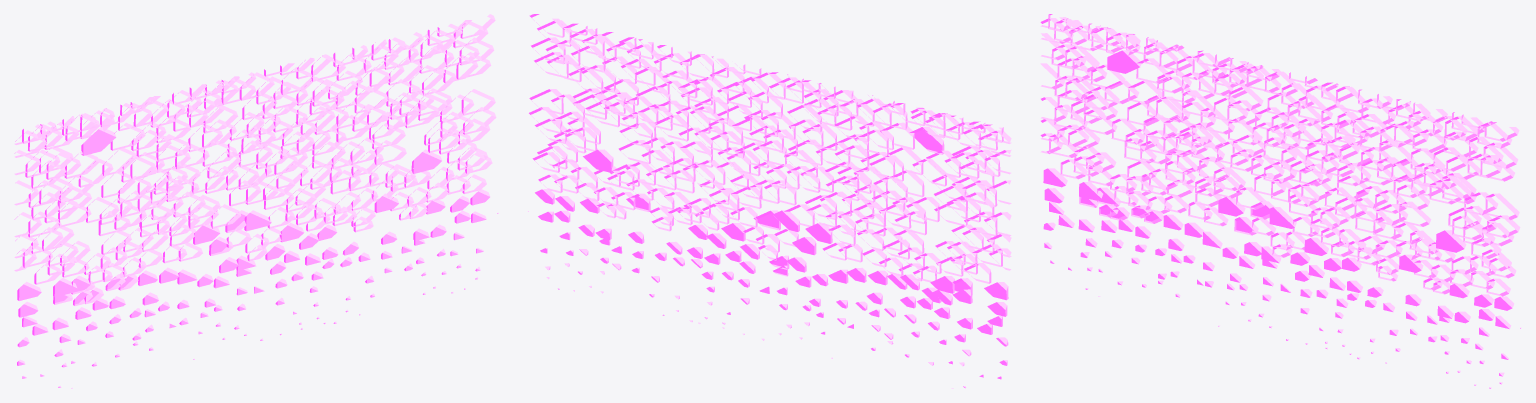
Rendered from Wall decoration neon 2.glb.
3 views of the same model, side by side, from view 1: azimuth 30°, elevation 25°; view 2: azimuth 150°, elevation 25°; view 3: azimuth 330°, elevation 25° (orthographic).
Parts seen in each view (by area): view 1: Decoration left leds.001; view 2: Decoration left leds.001; view 3: Decoration left leds.001.
Boxes of the visible parts, <box> form: Decoration left leds.001: <box>14,14,498,388</box>; Decoration left leds.001: <box>528,14,1011,388</box>; Decoration left leds.001: <box>1040,14,1521,388</box>.
Bounding box in the file's own units: 8.72 × 4.7 × 0.0596.
